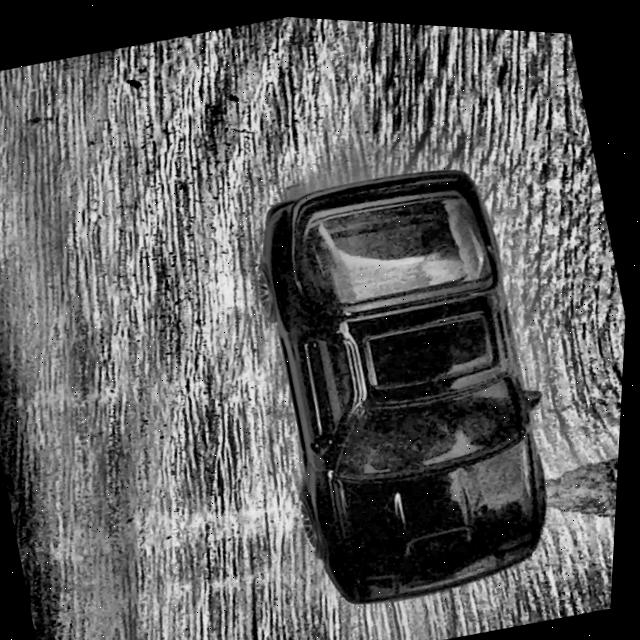car: (222, 135, 596, 621)
